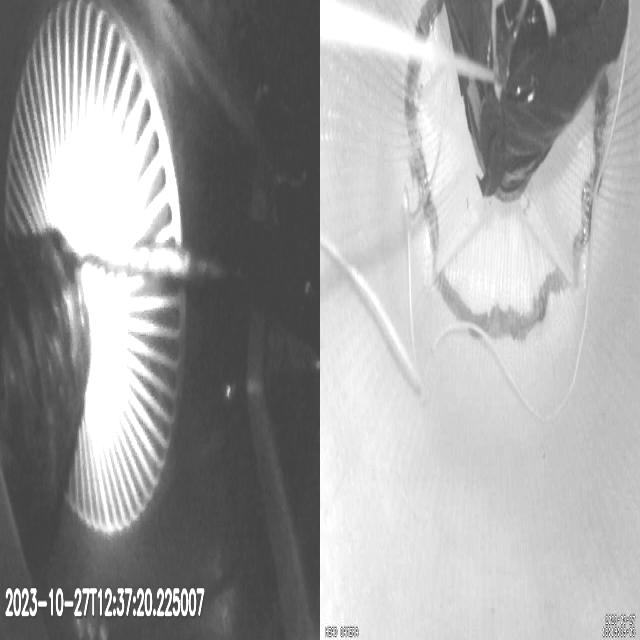red-circle: (405, 0, 610, 344)
